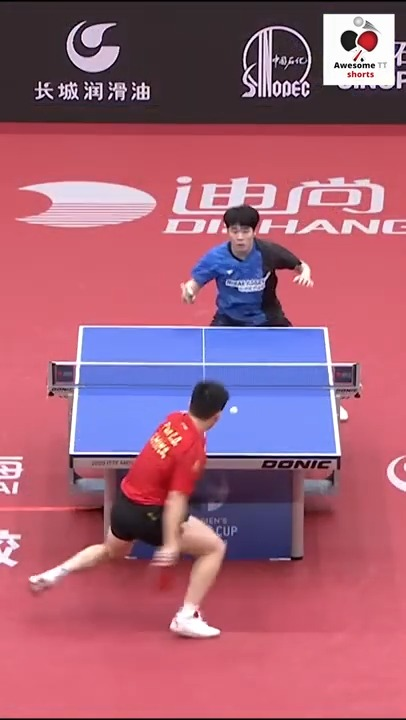Ball: (229, 404, 240, 418)
